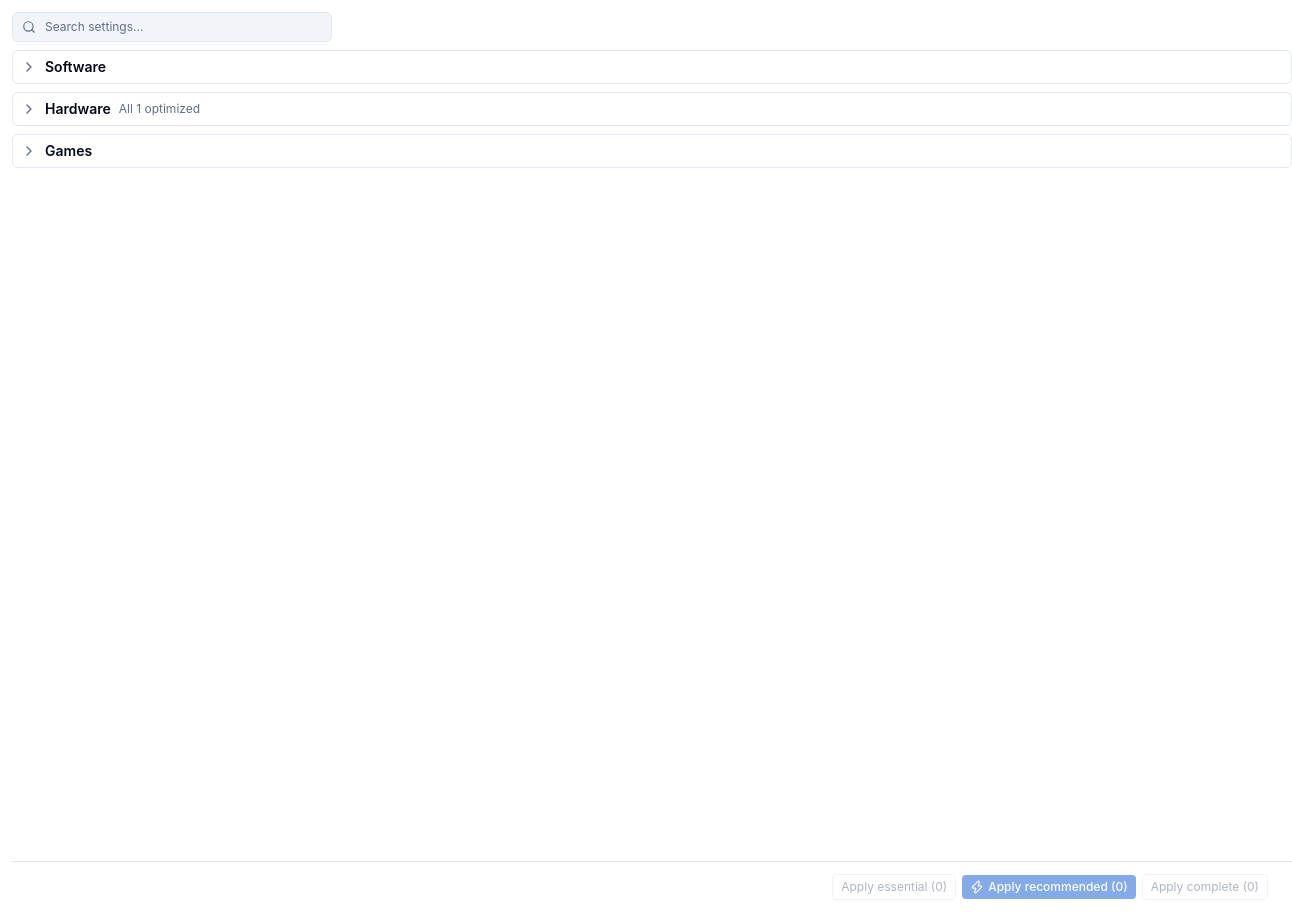
a device is named once, in its header › shows a network adapter's name once, and keeps its switch reachable by it
Click the button "Hardware All 1 optimized" at point(78, 108), box x1=21 y1=99 x2=1275 y2=119
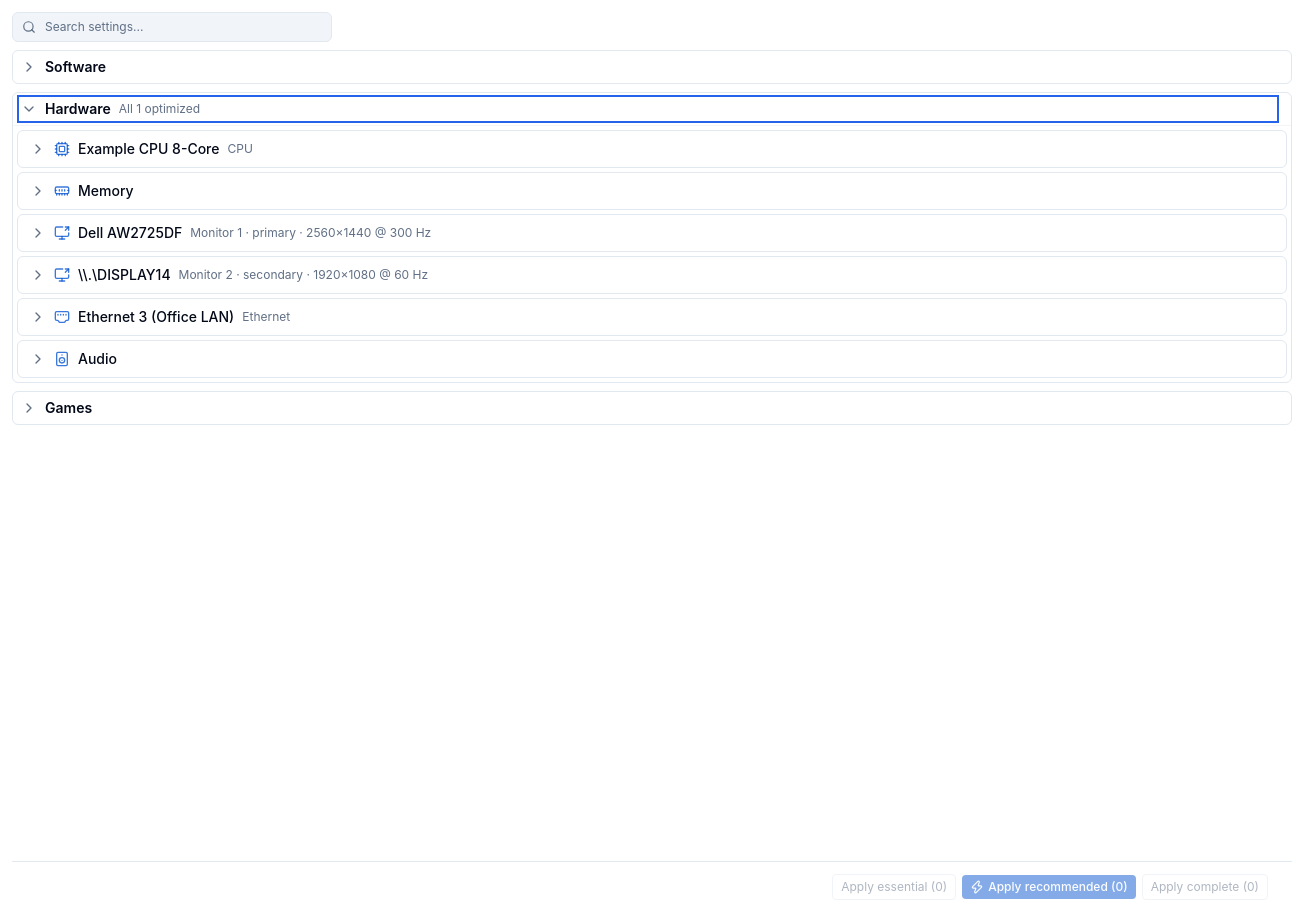
Click the button "Ethernet 3 (Office LAN) Ethernet" at point(156, 316), box x1=18 y1=299 x2=1286 y2=335
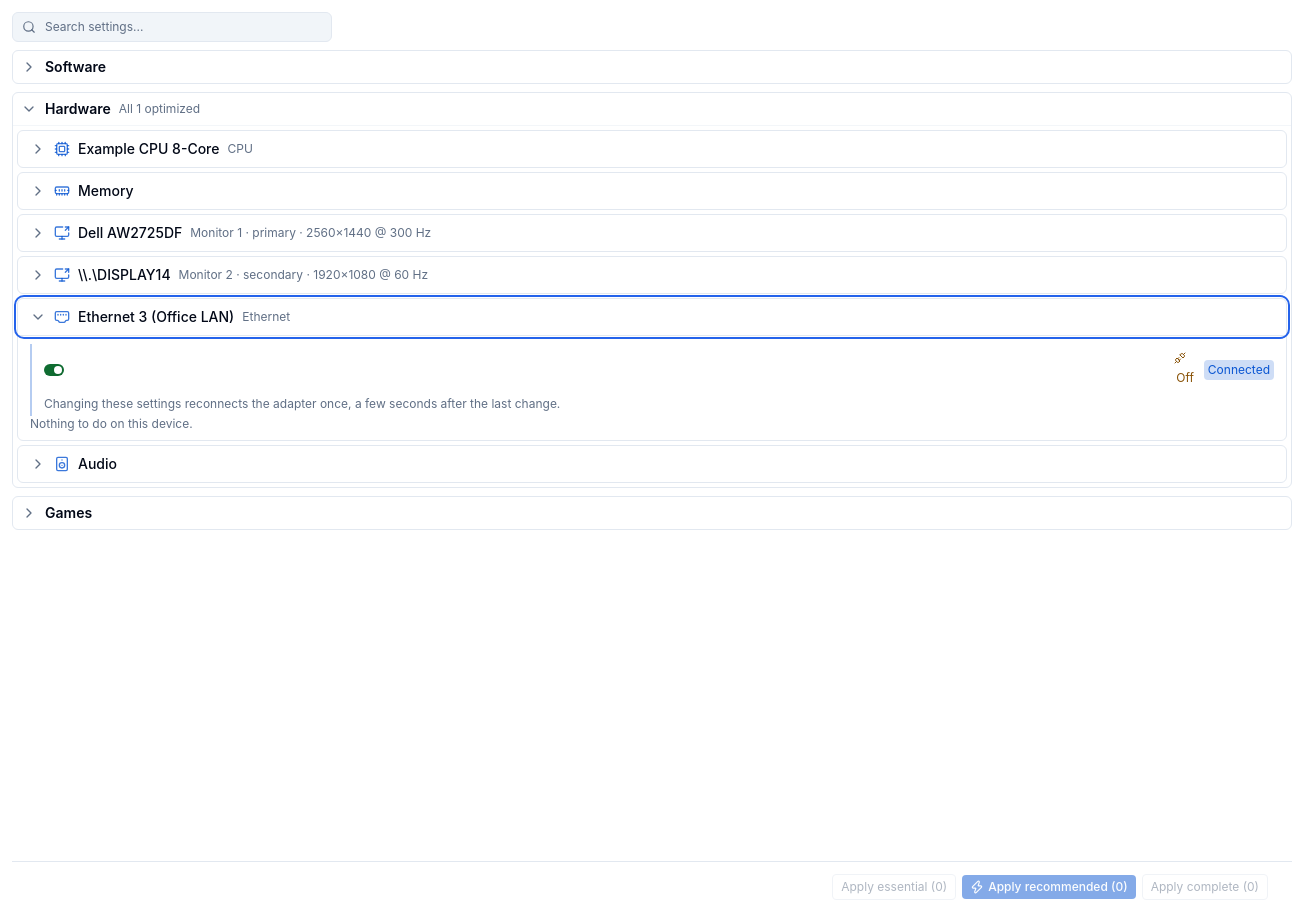
expect the text "Ethernet 3 (Office LAN)" is shown once: met, box x1=78 y1=307 x2=234 y2=327
expect the switch named "Ethernet 3 (Office LAN)" is shown: met, box x1=44 y1=364 x2=64 y2=376
